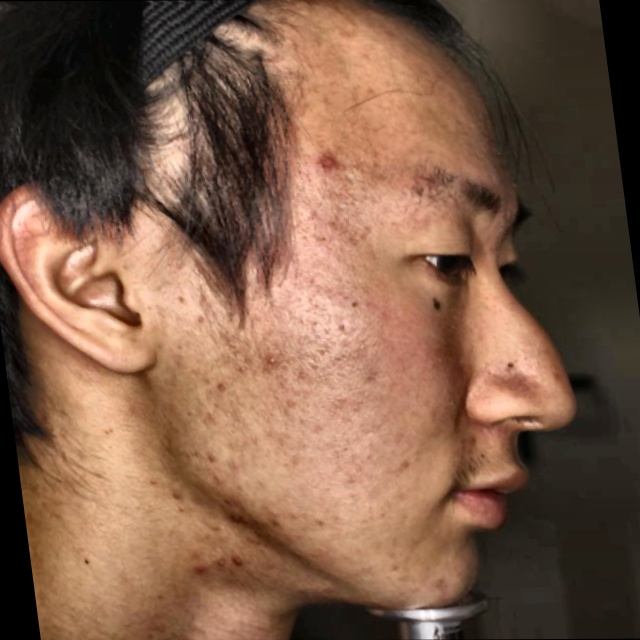comedone: (218, 505, 249, 535), (316, 150, 338, 176)
